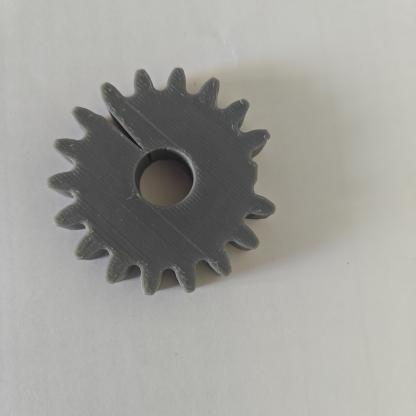defect: (68, 78, 159, 176)
gear: (33, 56, 304, 313)
